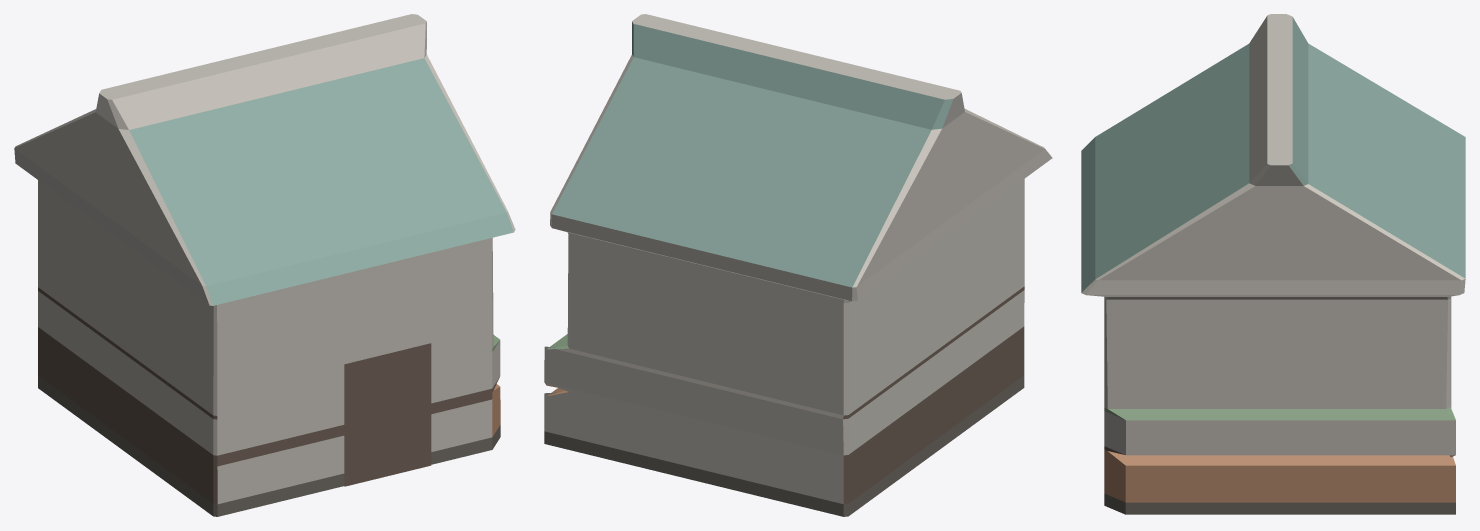
File: loin.glb
The picture shows the model from 3 angles, left to right: view 1: azimuth 30°, elevation 25°; view 2: azimuth 150°, elevation 25°; view 3: azimuth 270°, elevation 25°; orthographic projection. The views are drawn at different scales.
Parts seen in each view (by area): view 1: loin; view 2: loin; view 3: loin.
Part boxes in pixels (left/top/right/bottom): loin: left=14, top=14, right=515, bottom=516; loin: left=544, top=14, right=1052, bottom=516; loin: left=1081, top=14, right=1465, bottom=514.
Bounding box in the file's own units: 0.8211 × 0.8761 × 0.8717.
